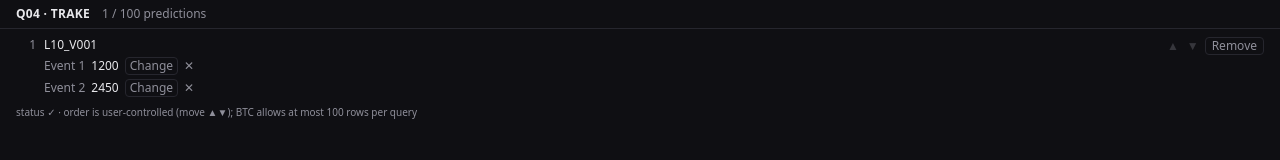
Test: PredictionQueue › supports per-event anchor editing: choose, replace, reset, inspect
// Choose enters picking mode for that slot
Click the button with aria-label "Choose frame for L10_V001 event 1": x=151, y=66 left=125, top=57, right=178, bottom=75
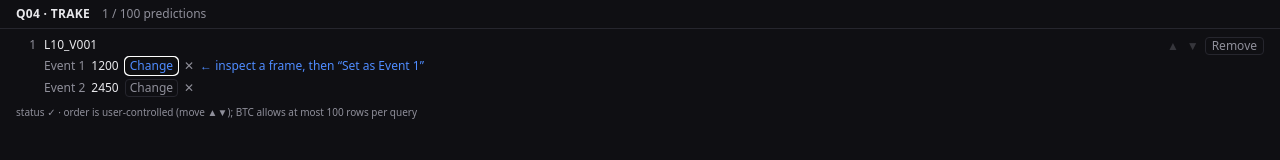
Now the text "← inspect a frame, then “Set as Event 1”" is shown, box left=200, top=58, right=424, bottom=74
// Inspect opens the current anchor in the shared inspector target
Click the button "1200": x=105, y=66 left=91, top=58, right=119, bottom=74
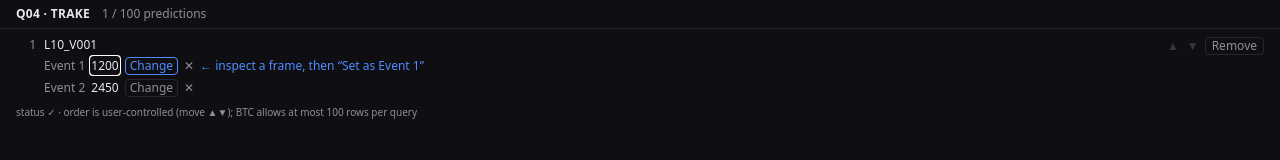
Click the button named "Reset L10_V001 event 2": x=189, y=88 left=184, top=80, right=194, bottom=96
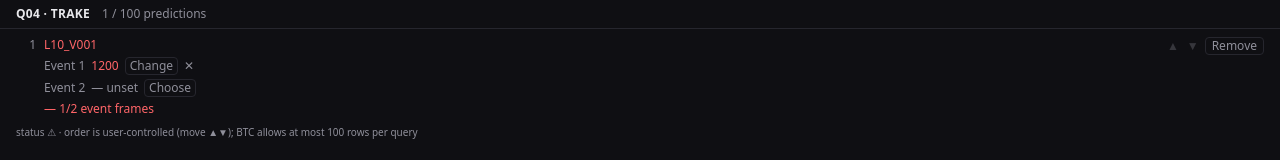
Expected: the button with aria-label "Choose frame for L10_V001 event 1" reads "Change", left=125, top=57, right=178, bottom=75
Now the button with aria-label "Choose frame for L10_V001 event 2" reads "Choose", box left=144, top=79, right=196, bottom=97
